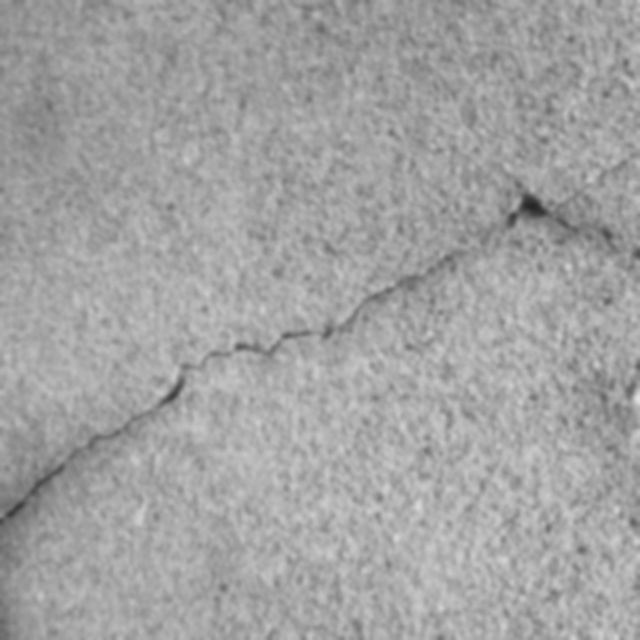SurfaceCrack: (1, 111, 640, 580)
